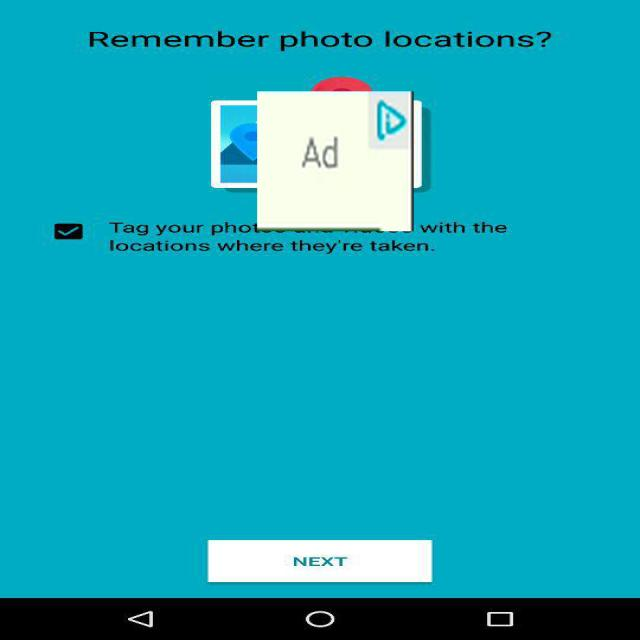sneaking: (257, 91, 414, 232)
